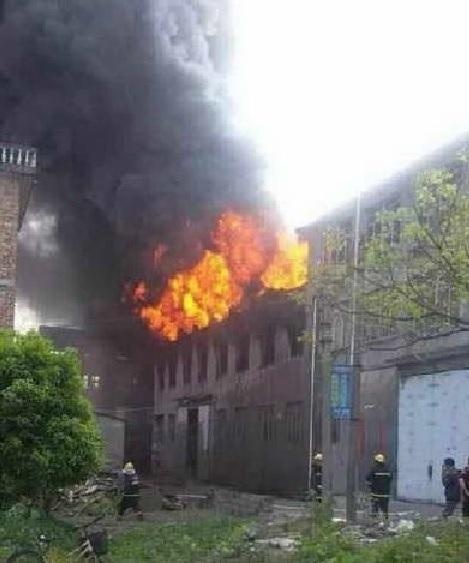fire: (127, 212, 313, 339)
